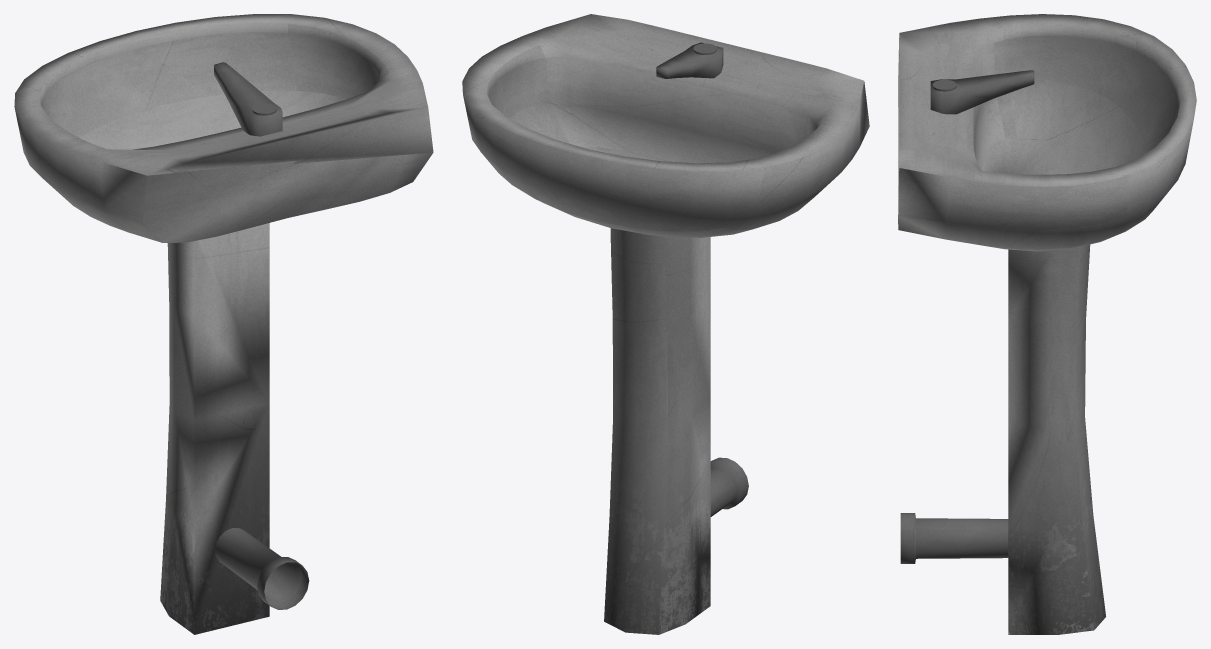
Rendered from SINK.fbx.
3 renders of one model, left to right at view 1: azimuth 30°, elevation 25°; view 2: azimuth 150°, elevation 25°; view 3: azimuth 270°, elevation 25°, orthographic. The views are drawn at different scales.
Parts seen in each view (by area): view 1: SINK; view 2: SINK; view 3: SINK.
Part boxes in pixels (x1=…): SINK: x1=14, y1=14, x2=433, y2=634; SINK: x1=462, y1=14, x2=869, y2=634; SINK: x1=898, y1=14, x2=1196, y2=634.
Size of the model in its own units: 0.8553 by 0.6241 by 1.25.
